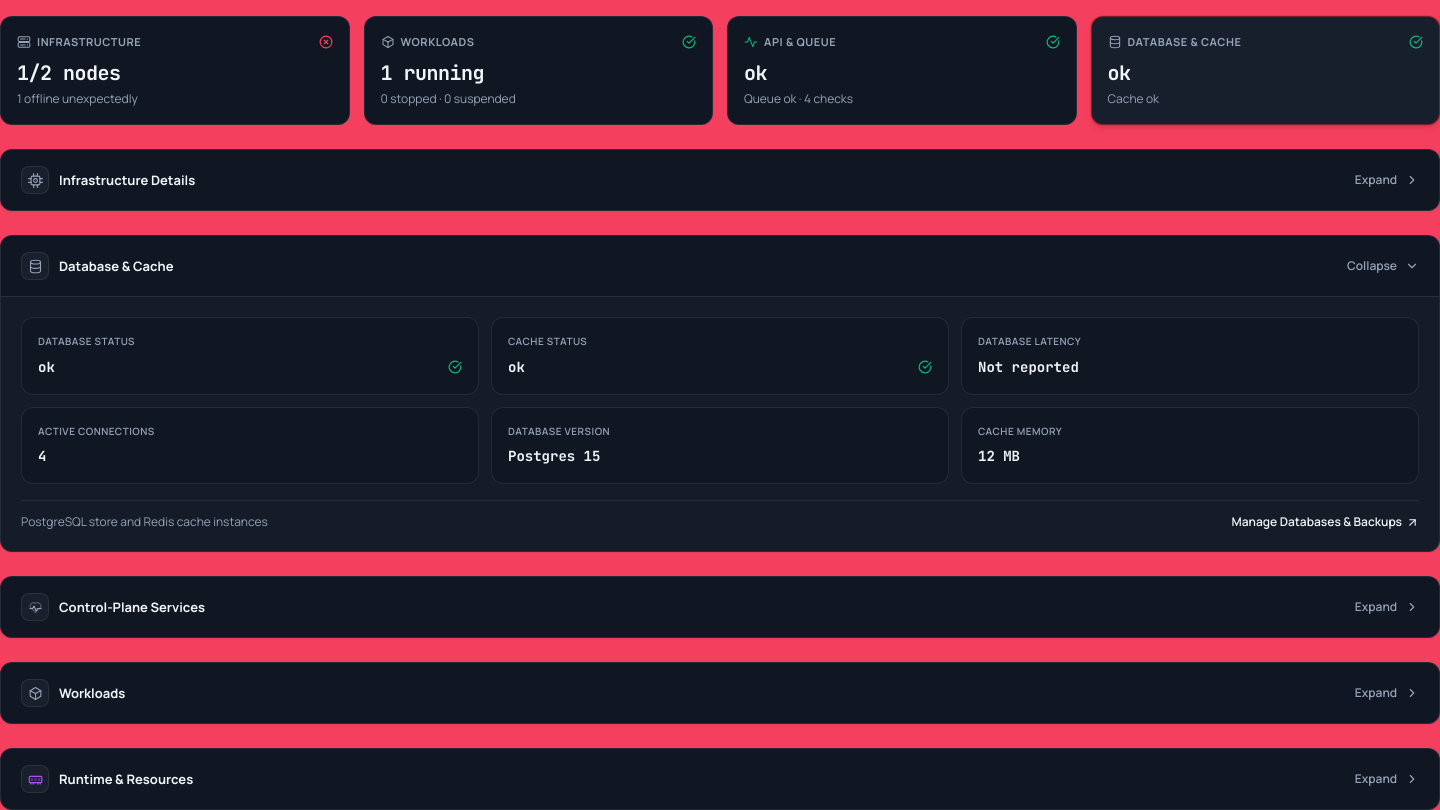
Test case: AdminHealth — health checks › shows database & cache and control plane metric tiles
This screenshot has width=1440, height=810.
(page scrolled)
Expected: the text "Database Latency" is shown, [978,334,1081,348]
# Open control-plane section to see system details
Click the text "Control-Plane Services" at (132, 607), box [59,597,205,617]
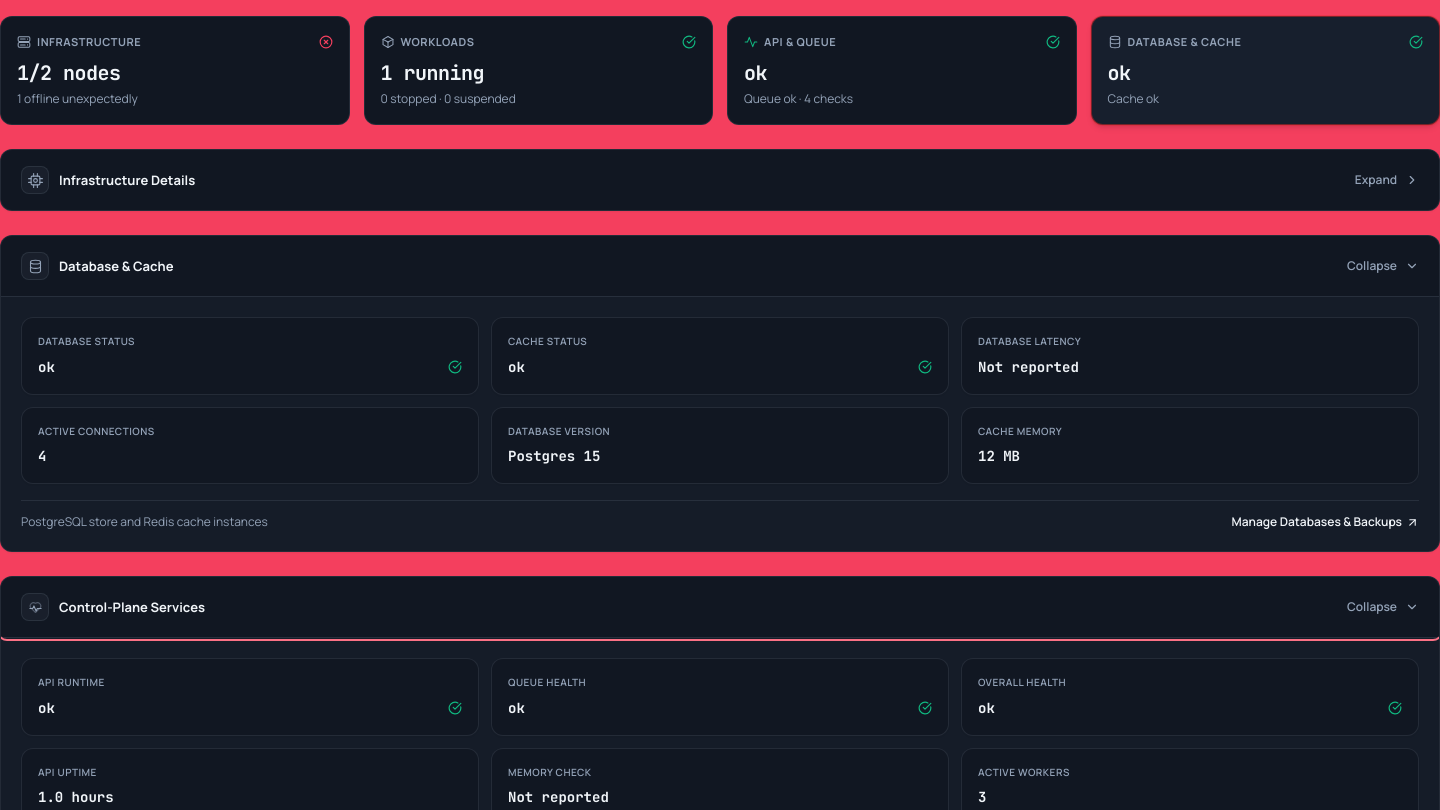
Expected: the text "API Runtime" is shown, [38,675,105,689]
Expected: the text "Queue Health" is shown, [508,675,586,689]
